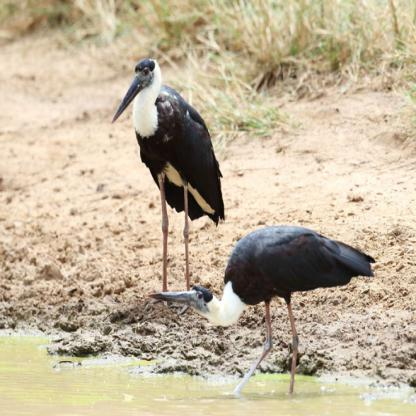Burung: (153, 224, 363, 394), (107, 57, 226, 300)
